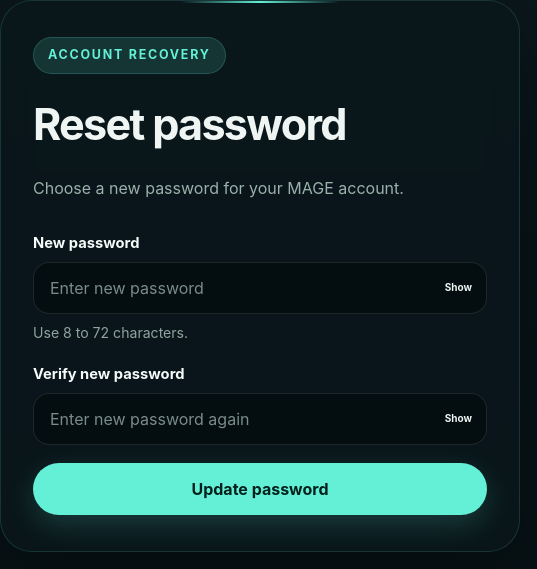
Test: ResetPasswordPage › shows client-side validation for invalid password values
Click the button "Update password".
click(260, 489)  # box [33,463,487,515]
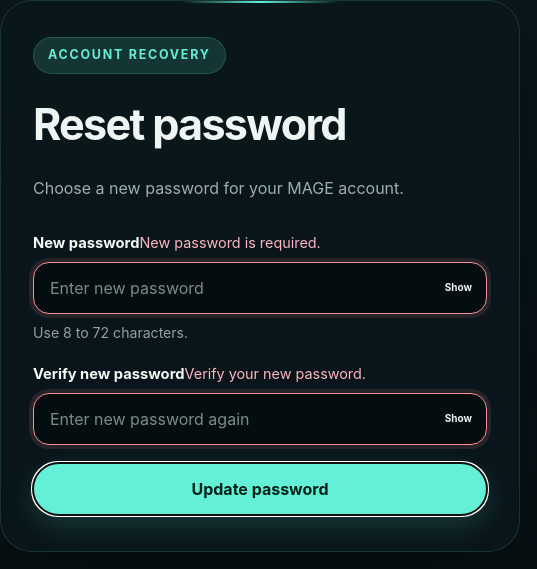
Now the text "New password is required." is shown, box [140,234,321,251]
Now the text "Verify your new password." is shown, box [184,365,366,382]
Type "new-password" into the password field labelled "New password".
click(260, 288); type("new-password")  # box [33,262,487,314]
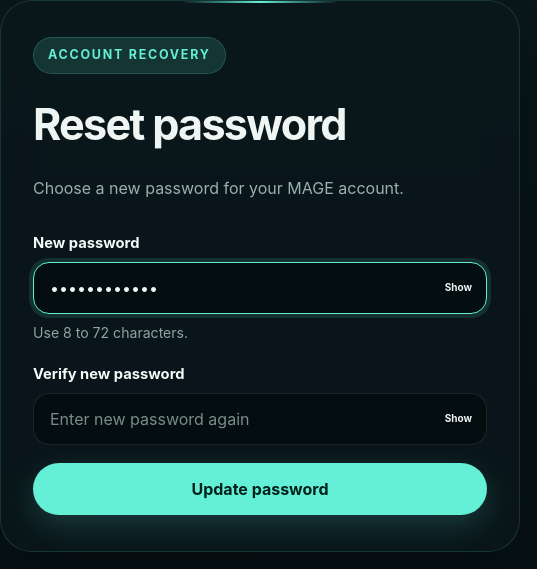
Type "different-password" into the password field labelled "Verify new password".
click(260, 419); type("different-password")  # box [33,393,487,445]
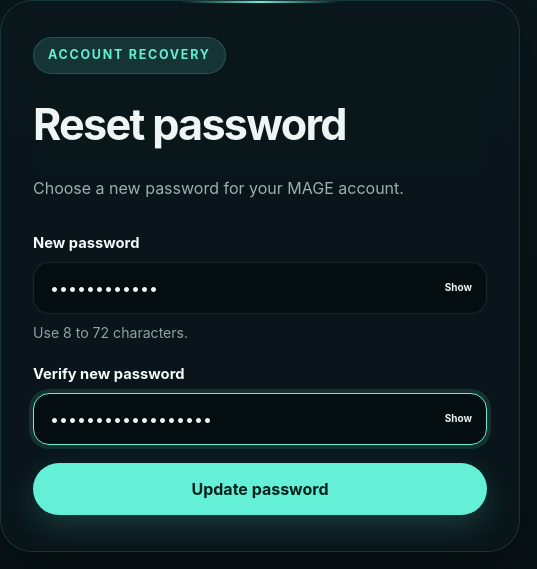
Click the button "Update password".
click(260, 489)  # box [33,463,487,515]
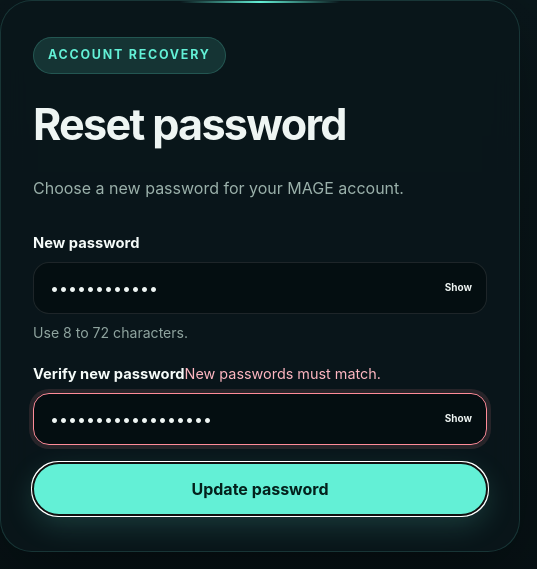
Now the text "New passwords must match." is shown, box [184,365,381,382]
